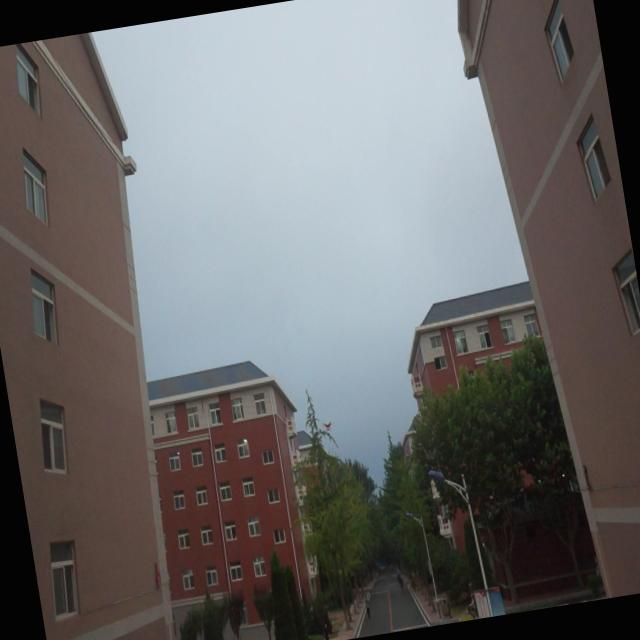drone: (321, 416, 336, 435)
